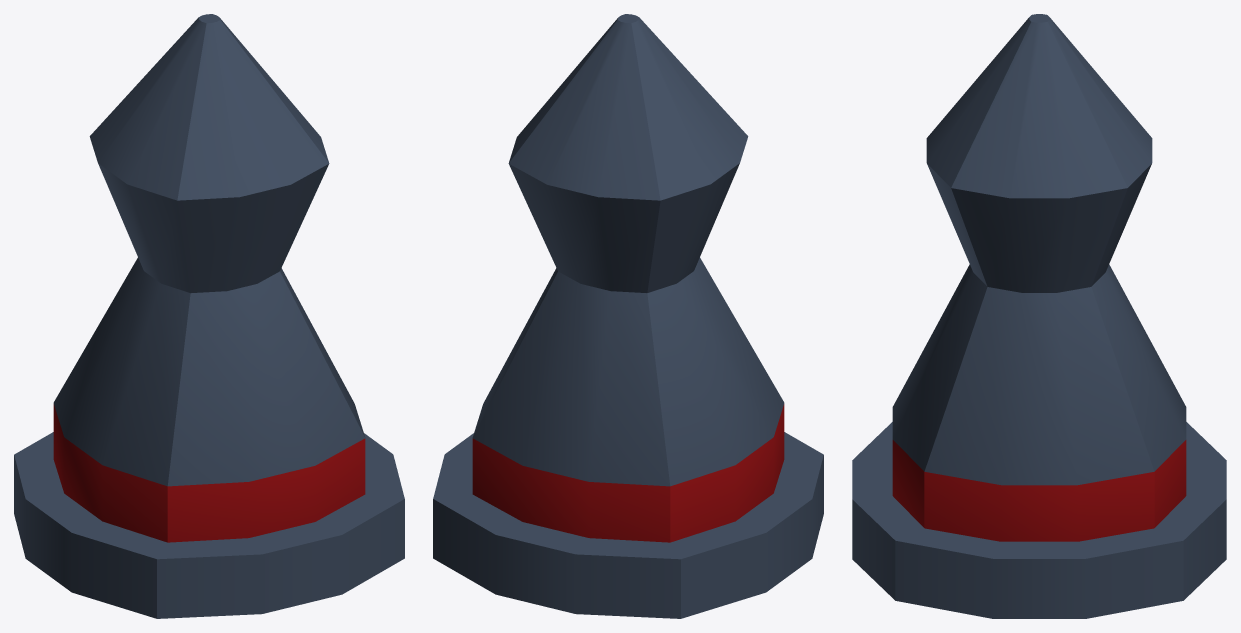
File: Laser.fbx
The picture shows the model from 3 angles, left to right: view 1: azimuth 30°, elevation 25°; view 2: azimuth 150°, elevation 25°; view 3: azimuth 270°, elevation 25°; orthographic projection.
Visible parts, largest first — view 1: laser; view 2: laser; view 3: laser.
Boxes of the visible parts, x1=… form: laser: x1=14, y1=14, x2=404, y2=618; laser: x1=433, y1=14, x2=823, y2=618; laser: x1=852, y1=14, x2=1226, y2=618.
Size of the model in its own units: 30.52 by 46.96 by 30.52.
